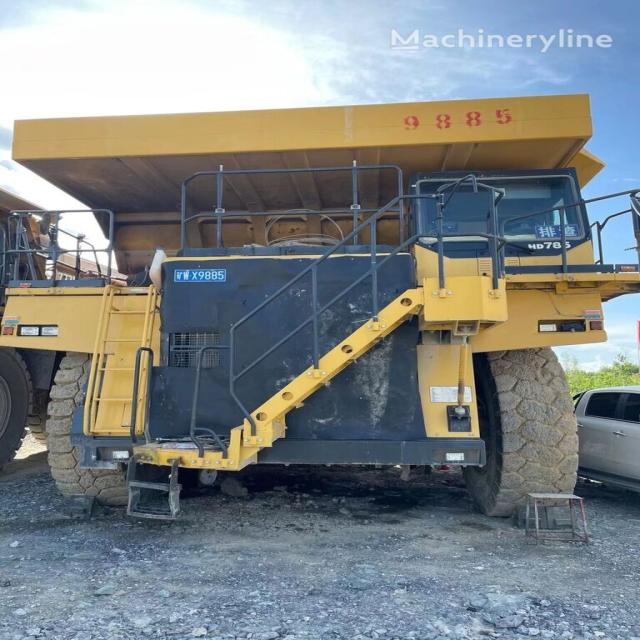dump_truck: (5, 90, 640, 548)
